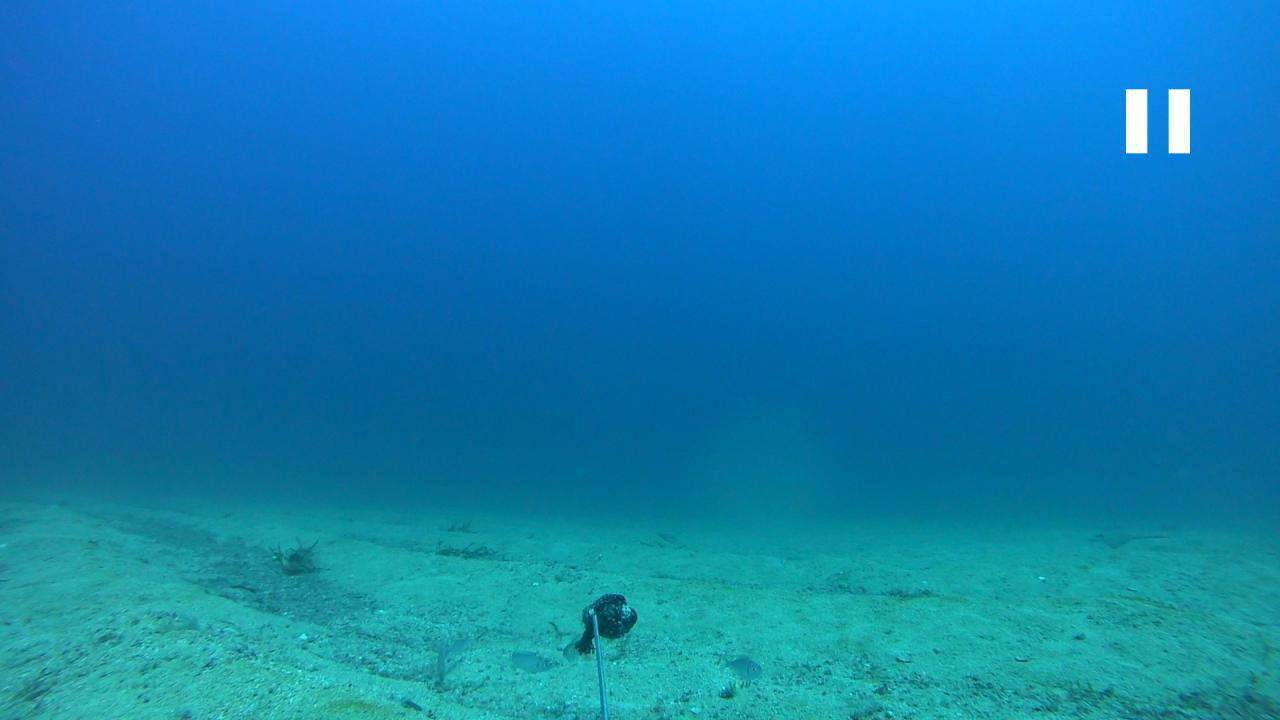dasyatis: (1086, 527, 1172, 547)
pagellus: (721, 657, 765, 680), (510, 650, 555, 671)
